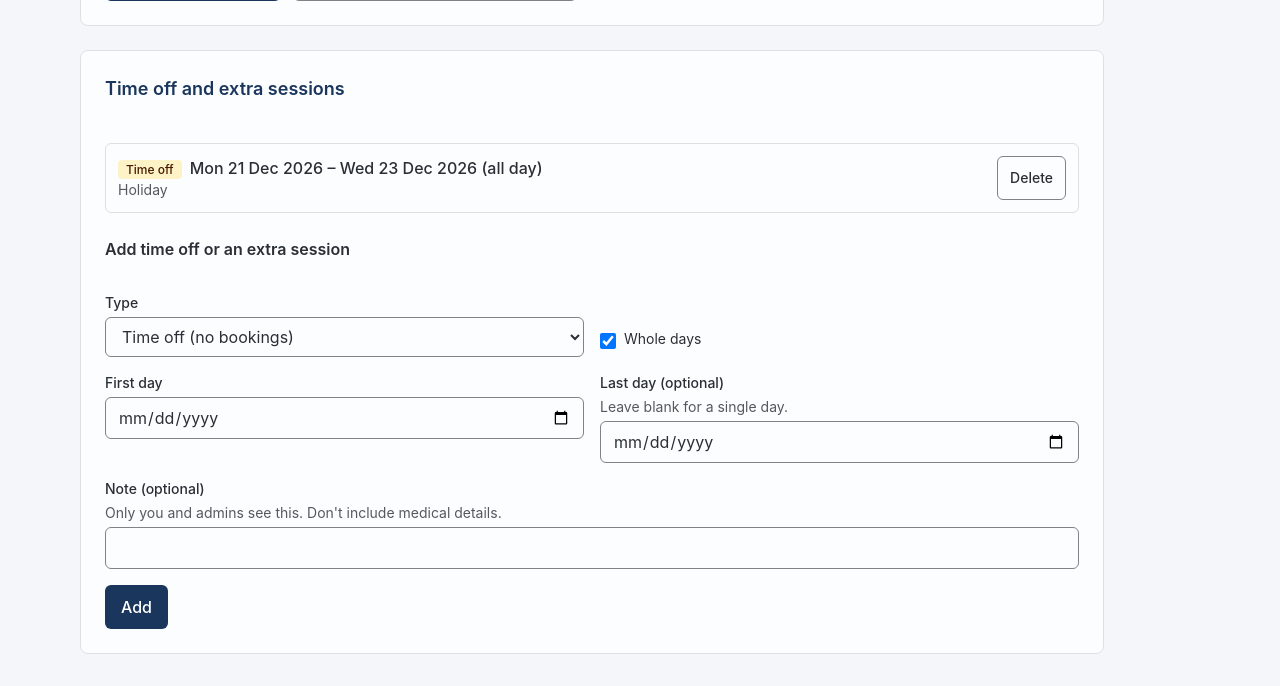
Test: availability page (doctor) › treats a blank last day as a single day
(page scrolled)
Type "2026-12-25" into the date field labelled "First day" at (344, 418), box [105, 397, 584, 439]
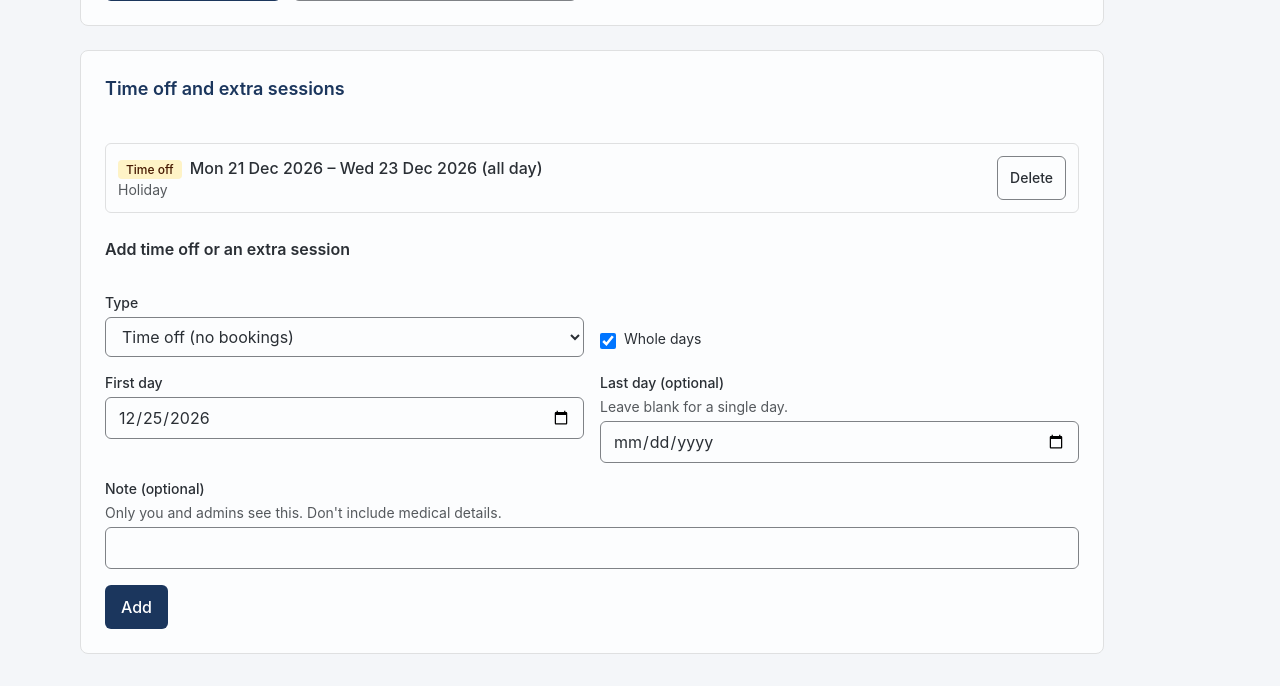
Click the button "Add" at (136, 607), box [105, 585, 168, 629]
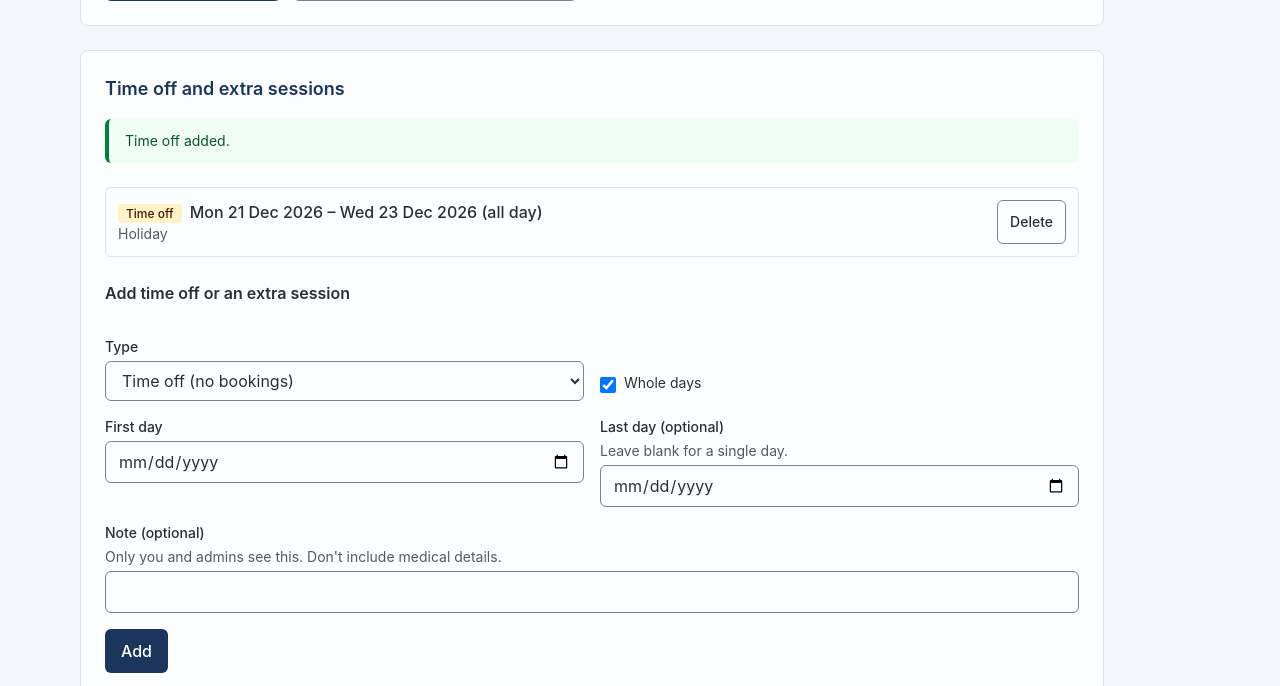
Check: the text "Time off added." is shown, box [125, 132, 230, 149]
